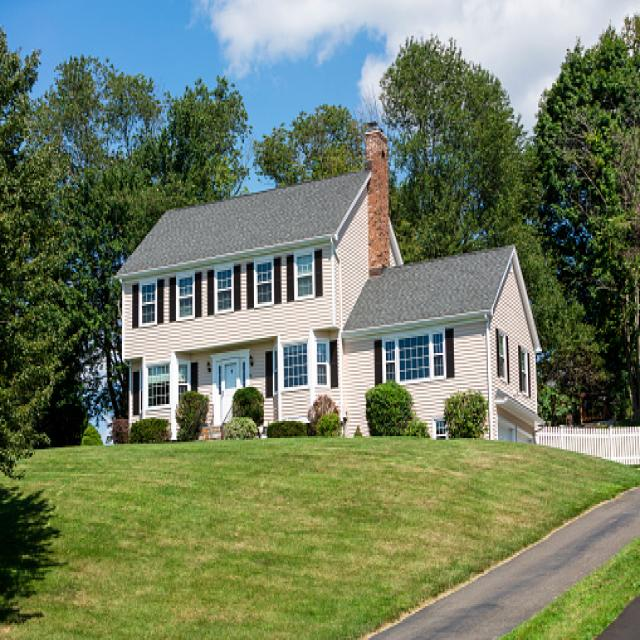Normal_building: (107, 158, 409, 442), (338, 243, 543, 450)
